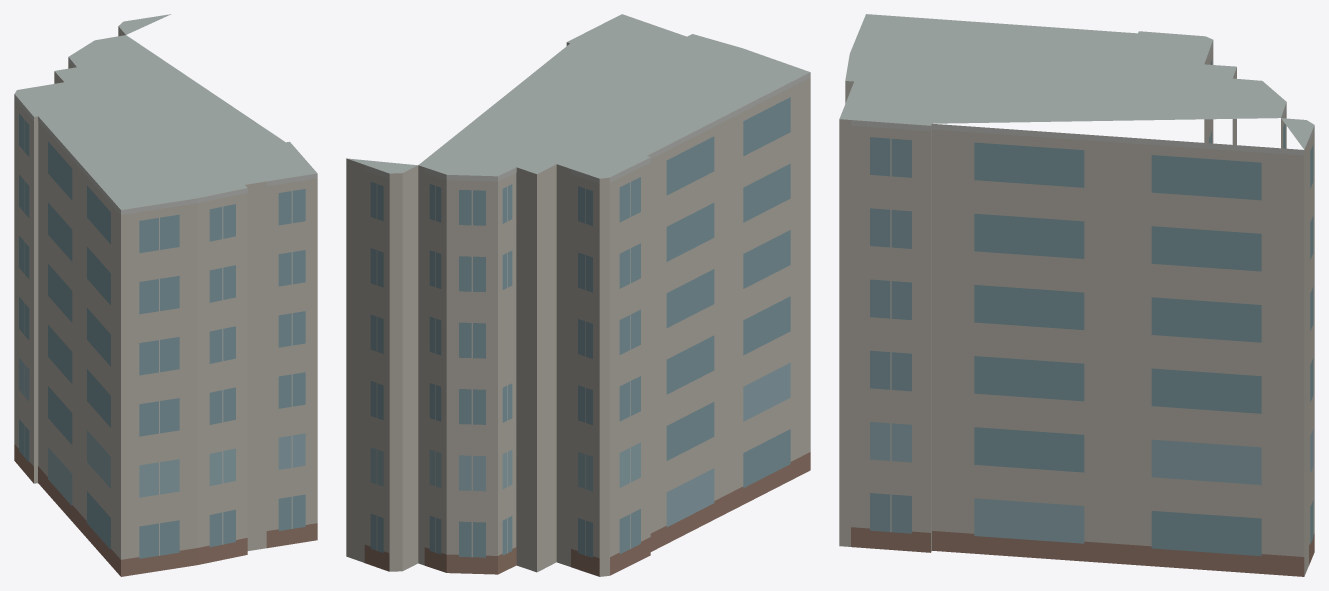
The model's file is survey-upis-32905306.glb.
3 renders of one model, left to right at view 1: azimuth 30°, elevation 25°; view 2: azimuth 150°, elevation 25°; view 3: azimuth 270°, elevation 25°, orthographic. The views are drawn at different scales.
Visible parts, largest first — view 1: survey-upis-32905306.tmp; view 2: survey-upis-32905306.tmp; view 3: survey-upis-32905306.tmp.
Part boxes in pixels (x1,y1,x2,y2): survey-upis-32905306.tmp: (14, 14, 317, 576); survey-upis-32905306.tmp: (346, 14, 810, 576); survey-upis-32905306.tmp: (839, 14, 1314, 576).
Size of the model in its own units: 12.5 by 18.3 by 18.47.
